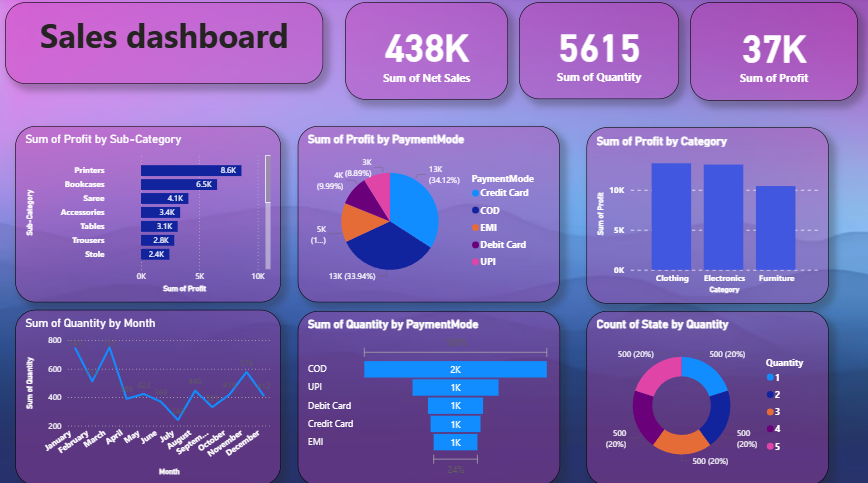

The page's visual inventory and layout, read from the dashboard file:
{"tool":"powerbi","page":{"name":"Page 1","canvas":[1280,720],"ordinal":0},"visuals":[{"type":"card","fields":{"Values":["Sum(Details.Profit)"]},"box":[1015.8,9.2,246.2,145.1],"z":0},{"type":"card","fields":{"Values":["Sum(Details.Amount)"]},"box":[508.8,9.2,238.8,143.3],"z":1000},{"type":"card","fields":{"Values":["Sum(Details.Quantity)"]},"box":[765,10,235,142.5],"z":2000},{"type":"textbox","box":[10,10,467.5,120],"z":3000},{"type":"barChart","fields":{"Category":["Details.Sub-Category"],"Y":["Sum(Details.Profit)"]},"box":[23.2,191.4,390.6,259.1],"z":4000},{"type":"pieChart","fields":{"Category":["Details.PaymentMode"],"Y":["Sum(Details.Profit)"]},"box":[438.9,191.4,384.8,259.1],"z":5000},{"type":"lineChart","fields":{"Category":["Orders (1).Order Date.Variation.Date Hierarchy.Month"],"Y":["Sum(Details.Quantity)"]},"box":[23,461,390,258],"z":6000},{"type":"funnel","fields":{"Category":["Details.PaymentMode"],"Y":["Sum(Details.Quantity)"]},"box":[439,462.9,385.8,257.2],"z":7000},{"type":"columnChart","fields":{"Category":["Details.Category"],"Y":["Sum(Details.Profit)"]},"box":[864.3,193.4,355.8,259.1],"z":8000},{"type":"donutChart","fields":{"Category":["Details.Quantity"],"Y":["CountNonNull(Orders (1).State)"]},"box":[863,463,356,257],"z":9000}]}

Visuals, with their boxes in screenshot pixels (x1, y1, x2, y2), scaled from the page's 1280x720 canvas onto the 868x483 screenshot:
card - Sum(Details.Profit): Rect(689, 6, 856, 104)
card - Sum(Details.Amount): Rect(345, 6, 507, 102)
card - Sum(Details.Quantity): Rect(519, 7, 678, 102)
textbox: Rect(7, 7, 324, 87)
barChart - Details.Sub-Category x Sum(Details.Profit): Rect(16, 128, 281, 302)
pieChart - Details.PaymentMode x Sum(Details.Profit): Rect(298, 128, 559, 302)
lineChart - Orders (1).Order Date.Variation.Date Hierarchy.Month x Sum(Details.Quantity): Rect(16, 309, 280, 482)
funnel - Details.PaymentMode x Sum(Details.Quantity): Rect(298, 311, 559, 482)
columnChart - Details.Category x Sum(Details.Profit): Rect(586, 130, 827, 304)
donutChart - Details.Quantity x CountNonNull(Orders (1).State): Rect(585, 311, 827, 482)
